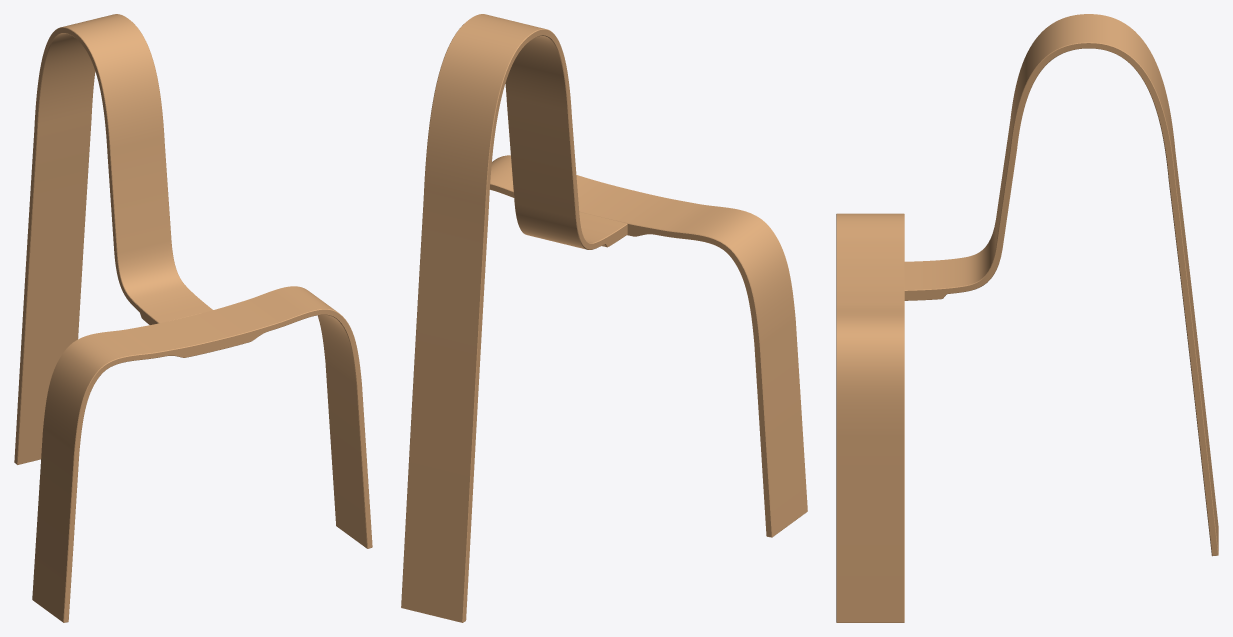
File: chair1.obj
The picture shows the model from 3 angles, left to right: view 1: azimuth 30°, elevation 25°; view 2: azimuth 150°, elevation 25°; view 3: azimuth 270°, elevation 25°; orthographic projection. The views are drawn at different scales.
Visible parts, largest first — view 1: Chair_001; view 2: Chair_001; view 3: Chair_001.
Part boxes in pixels (<box>): Chair_001: <box>14,14,372,622</box>; Chair_001: <box>401,14,807,622</box>; Chair_001: <box>836,14,1218,622</box>.
Bounding box in the file's own units: 58.84 × 86.38 × 58.24.
